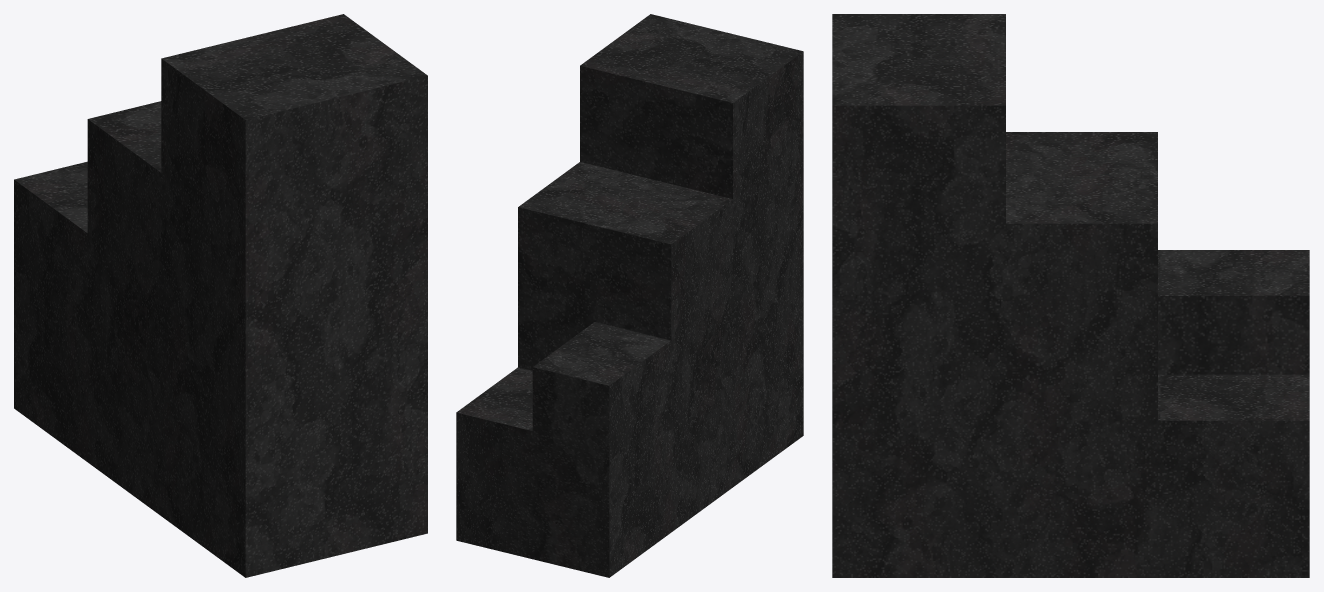
File: rock_5.fbx
The picture shows the model from 3 angles, left to right: view 1: azimuth 30°, elevation 25°; view 2: azimuth 150°, elevation 25°; view 3: azimuth 270°, elevation 25°; orthographic projection. The views are drawn at different scales.
Visible parts, largest first — view 1: Rock5.001; view 2: Rock5.001; view 3: Rock5.001.
Boxes of the visible parts, left/top/right/bottom form: Rock5.001: left=14, top=14, right=427, bottom=577; Rock5.001: left=456, top=14, right=803, bottom=577; Rock5.001: left=832, top=14, right=1309, bottom=577.
Size of the model in its own units: 500 by 1200 by 1100.
